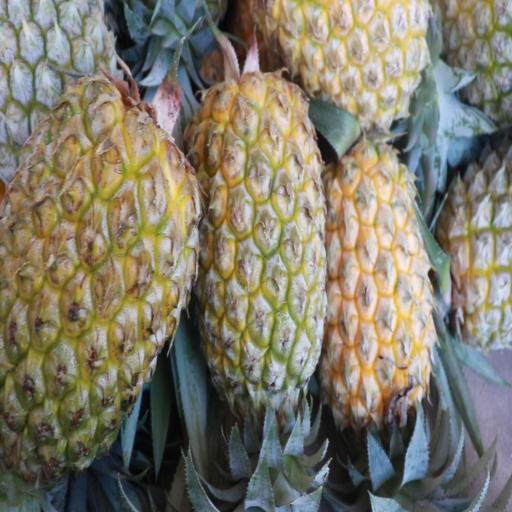Pineapple - v8 v1: (0, 99, 195, 477), (194, 76, 326, 418), (326, 145, 436, 442), (260, 0, 429, 126)
